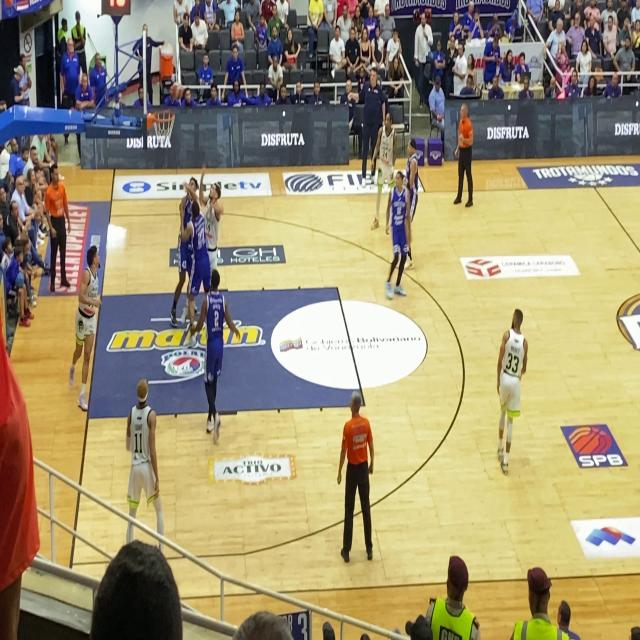referee: (328, 376, 381, 582), (34, 150, 70, 305), (450, 95, 482, 225)
team1: (479, 292, 531, 489), (123, 365, 168, 552), (69, 233, 100, 420), (363, 92, 393, 237), (203, 164, 226, 274)
team2: (193, 263, 235, 442), (379, 163, 412, 311), (188, 193, 209, 339), (175, 169, 195, 319), (404, 126, 425, 256)
ubasket: (150, 105, 176, 149)
